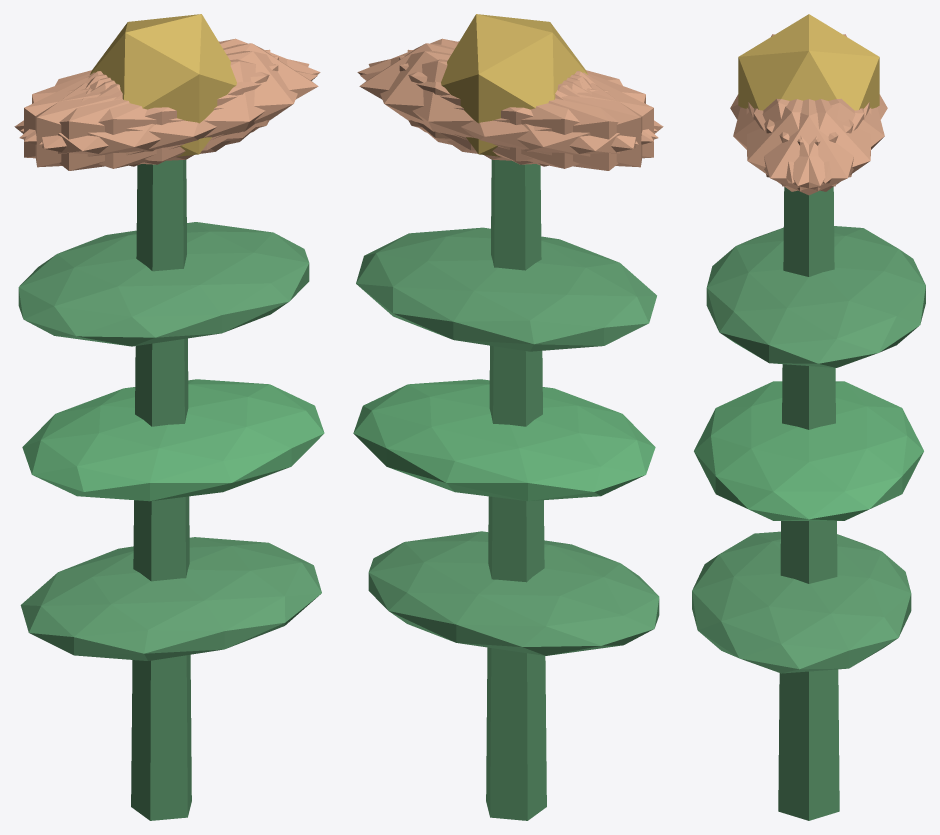
The model's file is araucaria-heterophylla.glb.
The picture shows the model from 3 angles, left to right: view 1: azimuth 30°, elevation 25°; view 2: azimuth 150°, elevation 25°; view 3: azimuth 270°, elevation 25°; orthographic projection.
Visible parts, largest first — view 1: leaf0, leaf1, leaf2, stem, center, petal1, petal6, petal2, petal5, petal7, petal0, petal4 (+2 smaller); view 2: leaf2, leaf1, leaf0, stem, center, petal8, petal3, petal7, petal4, petal2, petal0, petal5 (+2 smaller); view 3: leaf1, leaf2, leaf0, stem, center, petal0, petal4, petal5, petal8, petal1.
Part boxes in pixels (x1,y1,x2,y2): leaf0: (20, 537, 321, 660); leaf1: (22, 379, 324, 501); leaf2: (18, 222, 309, 346); stem: (131, 159, 191, 820); center: (90, 14, 236, 156); petal1: (19, 59, 317, 168); petal6: (14, 72, 230, 170); petal2: (35, 49, 270, 167); petal5: (39, 51, 309, 161); petal7: (24, 56, 278, 164); petal0: (89, 43, 318, 150); petal4: (20, 38, 320, 141); leaf2: (356, 227, 656, 351); leaf1: (353, 379, 655, 501); leaf0: (368, 531, 659, 655); stem: (486, 159, 546, 820); center: (441, 14, 587, 156); petal8: (360, 59, 658, 168); petal3: (447, 72, 663, 170); petal7: (407, 49, 642, 167); petal4: (368, 51, 638, 161); petal2: (399, 56, 653, 164); petal0: (359, 43, 588, 150); petal5: (357, 38, 657, 141); leaf1: (694, 381, 923, 520); leaf2: (706, 226, 925, 367); leaf0: (692, 531, 911, 673); stem: (778, 187, 839, 820); center: (738, 14, 879, 110); petal0: (748, 99, 869, 195); petal4: (753, 99, 871, 191); petal5: (746, 99, 864, 191); petal8: (764, 98, 884, 183); petal1: (733, 98, 853, 183).
Bounding box in the file's own units: 0.1452 × 0.3708 × 0.1015.
